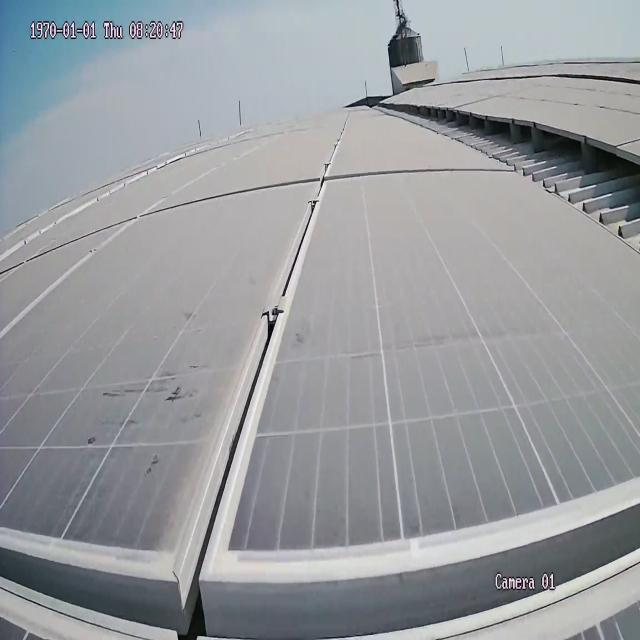interior panel: (0, 122, 640, 640)
outher panel: (377, 101, 640, 258)
